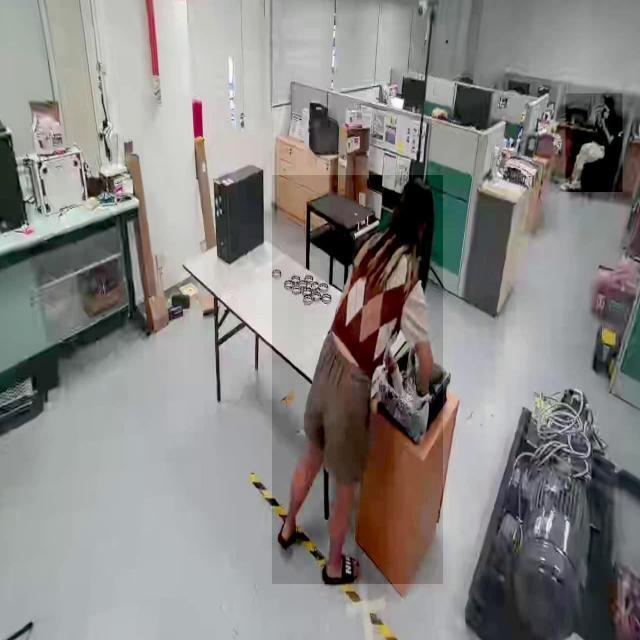gloves: (388, 358, 407, 398)
